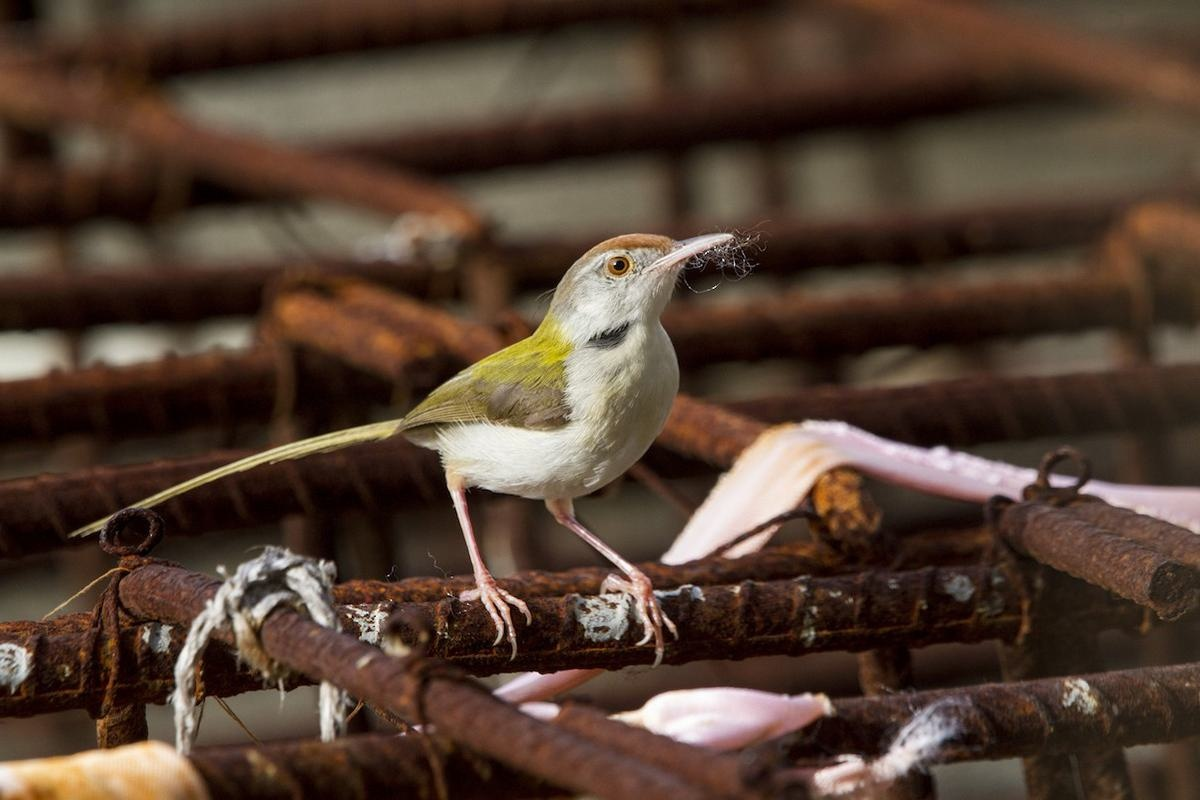tailorbird: (113, 208, 790, 608)
